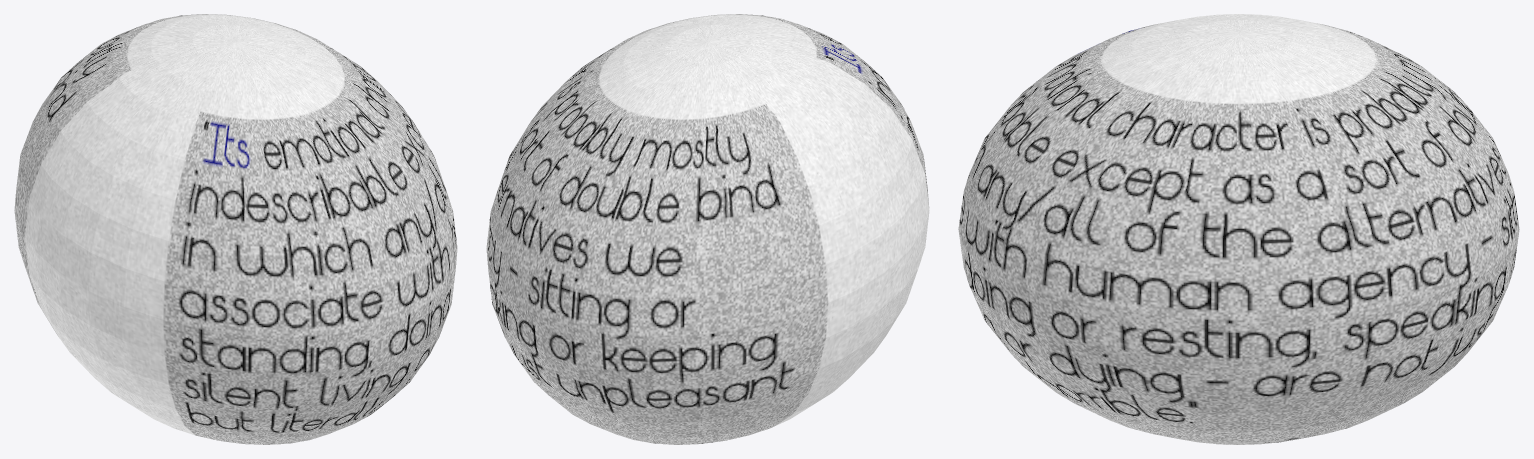
The model's file is emptiness6.glb.
The picture shows the model from 3 angles, left to right: view 1: azimuth 30°, elevation 25°; view 2: azimuth 150°, elevation 25°; view 3: azimuth 270°, elevation 25°; orthographic projection. The views are drawn at different scales.
Visible parts, largest first — view 1: Sphere; view 2: Sphere; view 3: Sphere.
Part boxes in pixels (x1=…): Sphere: x1=14, y1=14, x2=457, y2=444; Sphere: x1=486, y1=14, x2=929, y2=444; Sphere: x1=958, y1=14, x2=1519, y2=444.
Bounding box in the file's own units: 1.4 × 1.42 × 1.84.
1 material, 1 textured.
